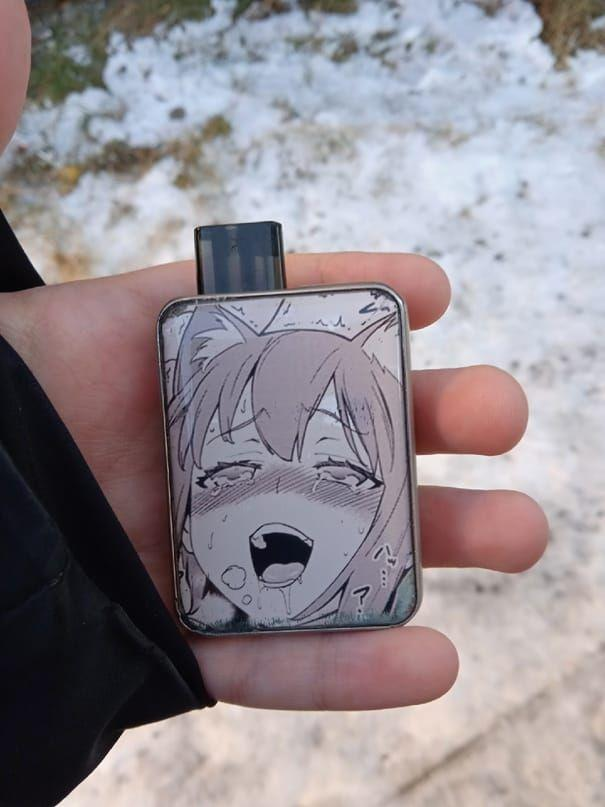Vape: (157, 223, 420, 636)
